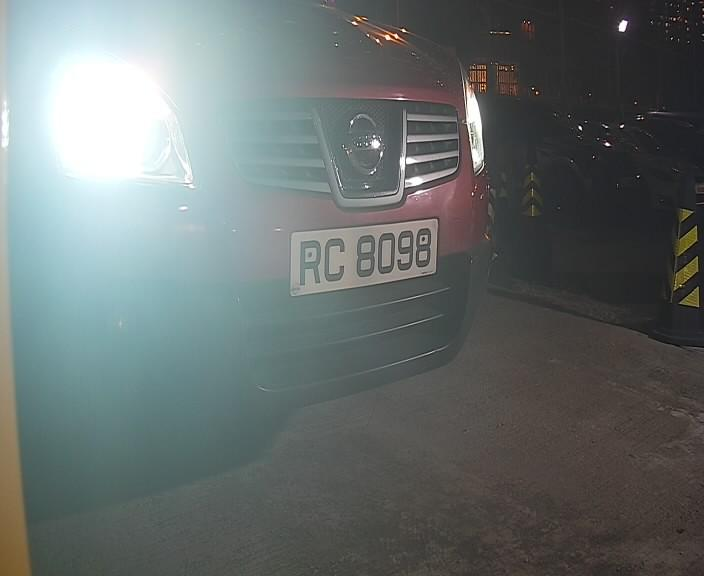License Plate: (274, 203, 453, 320)
